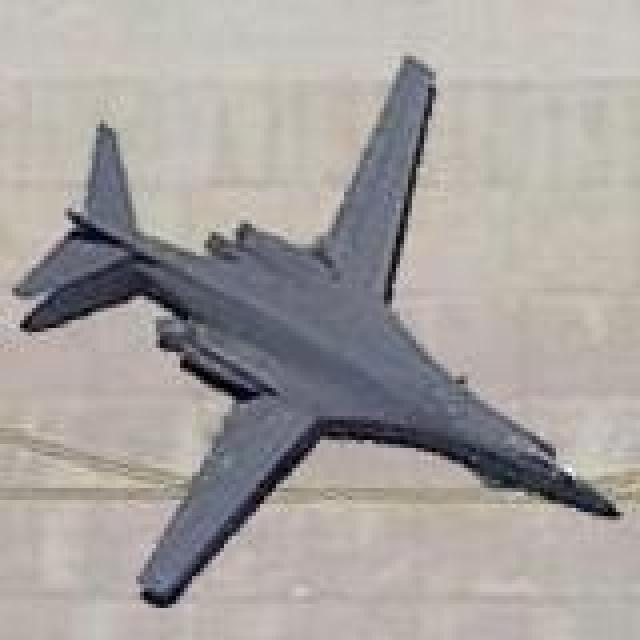B-1_TopDown: (8, 48, 624, 608)
